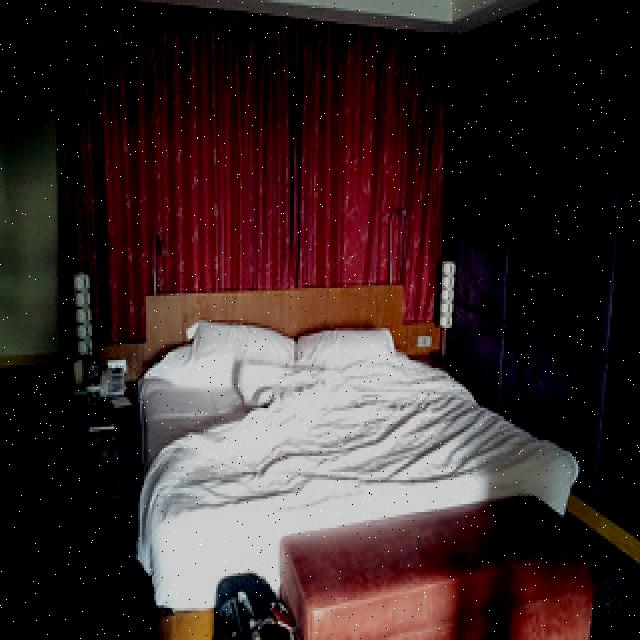bed: (135, 325, 578, 561)
